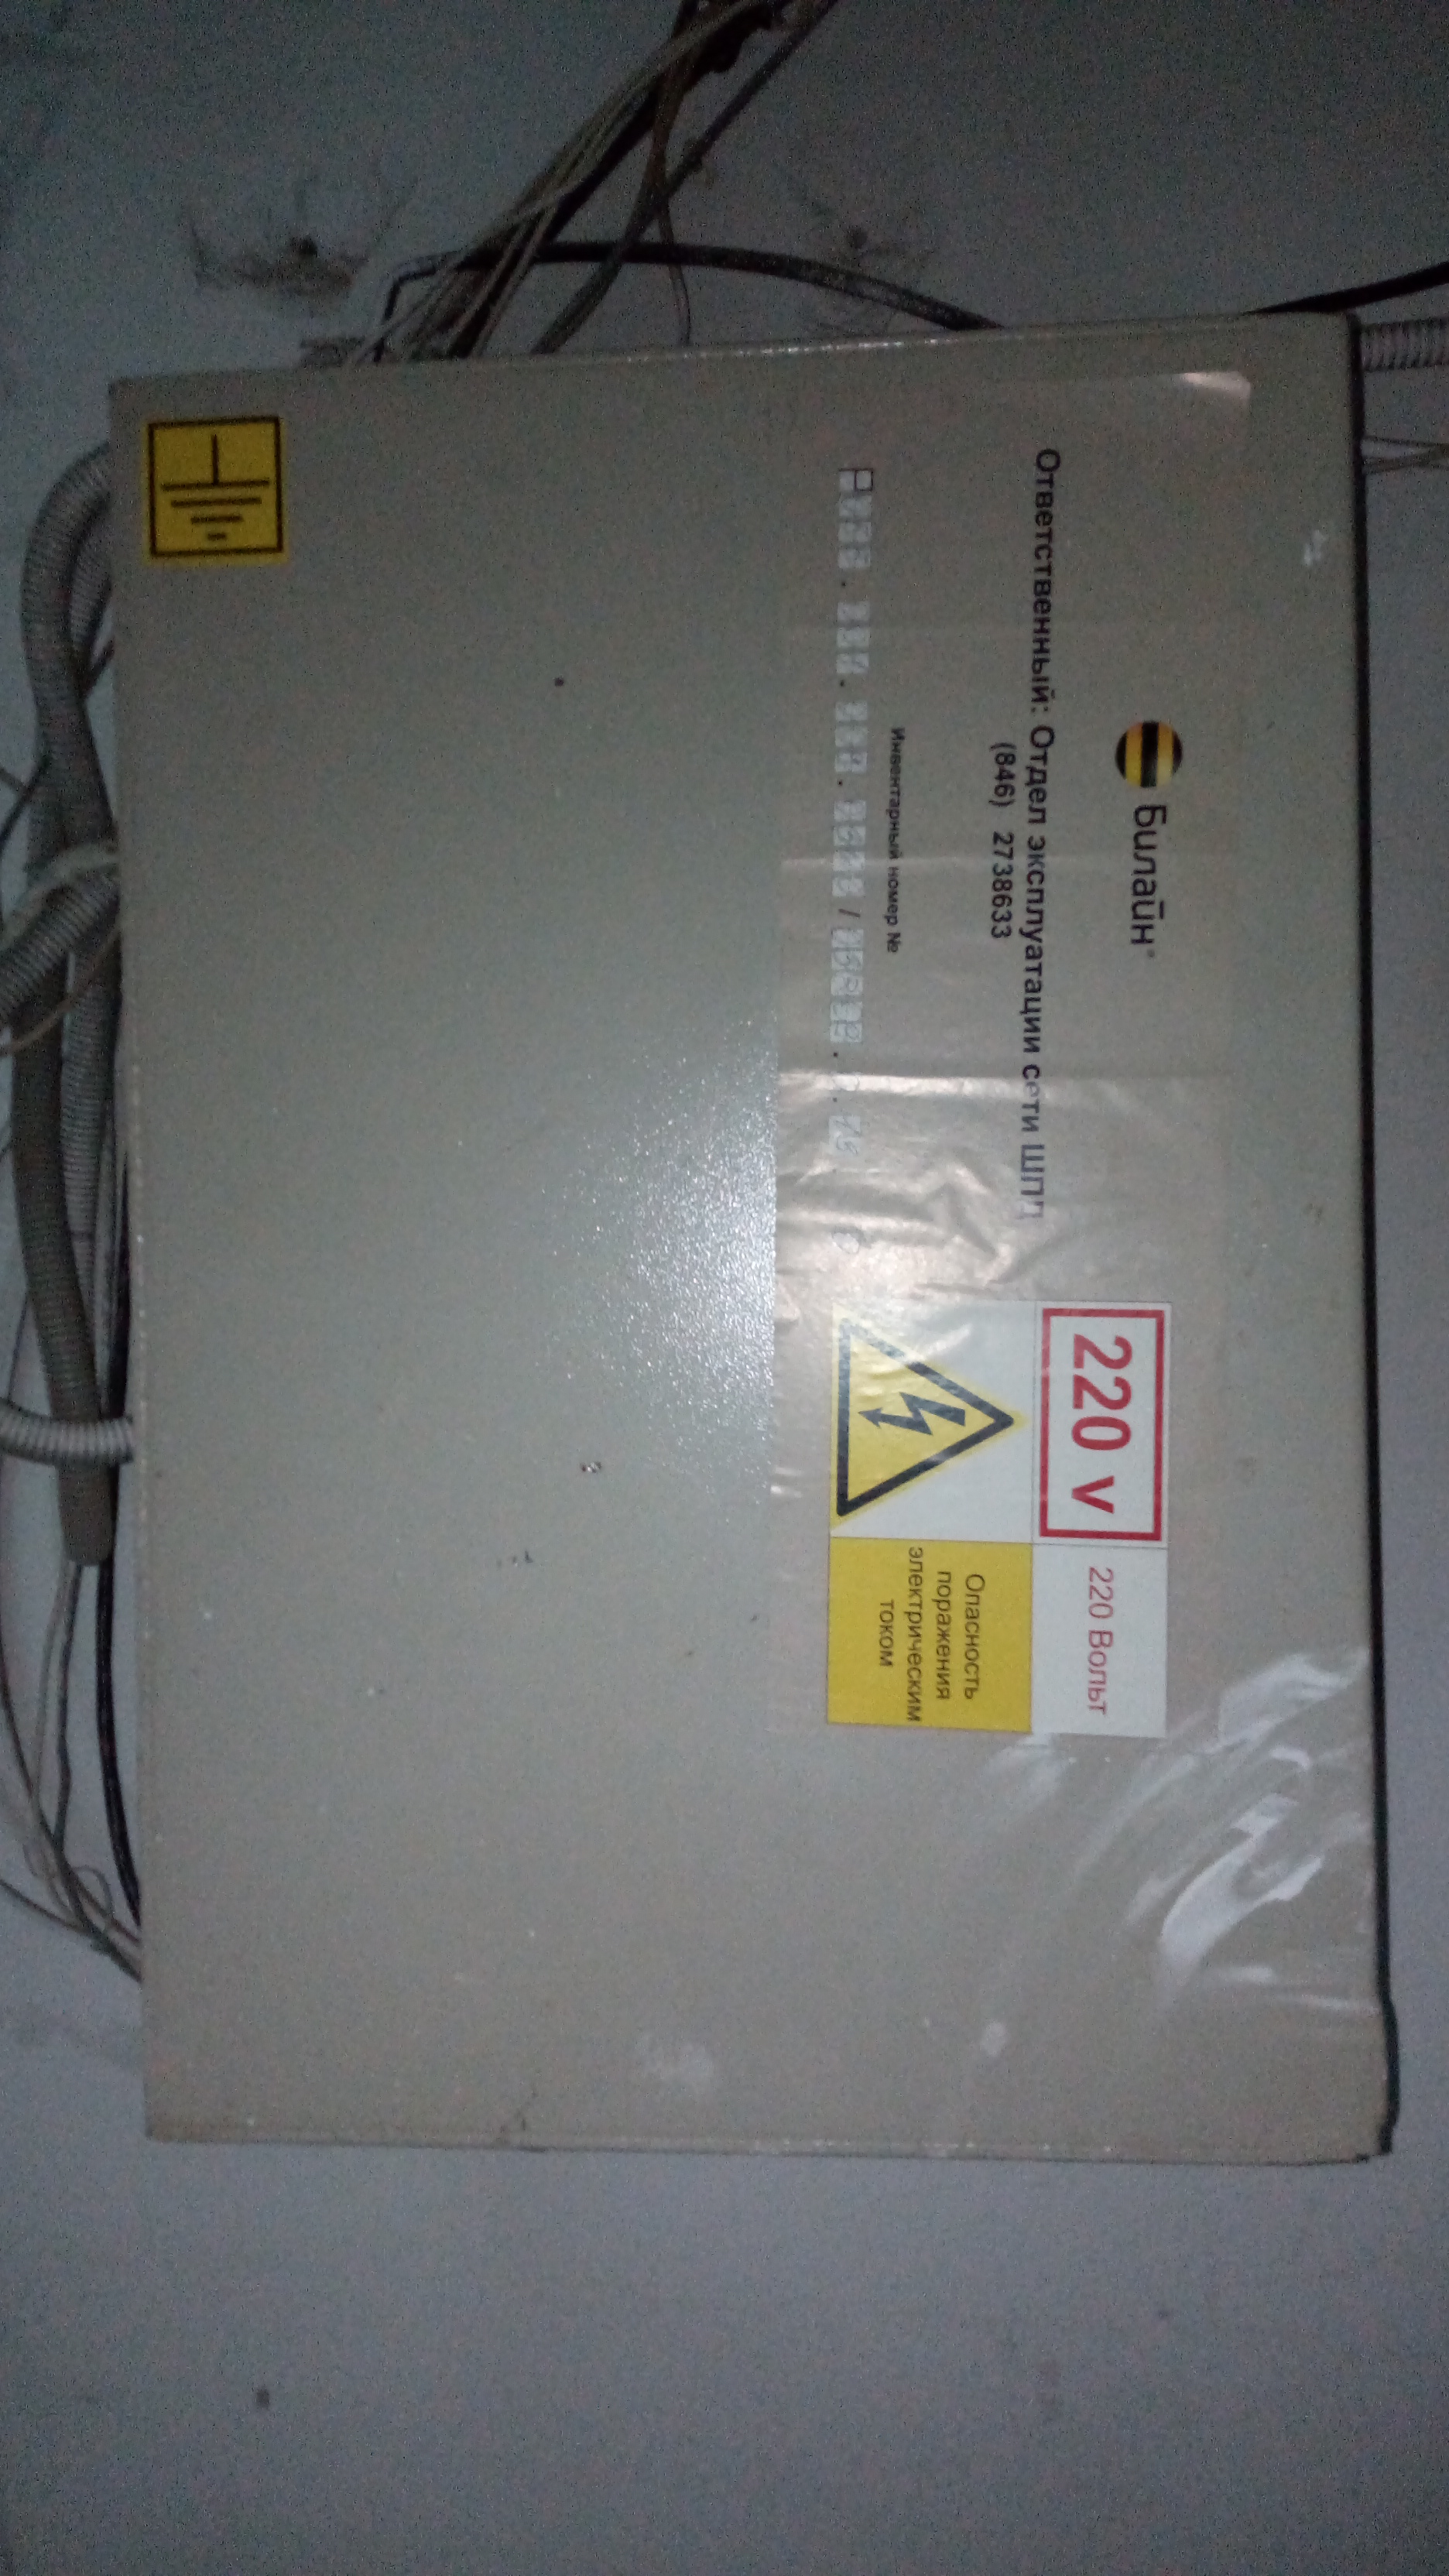sv-5: (85, 290, 1399, 2196)
